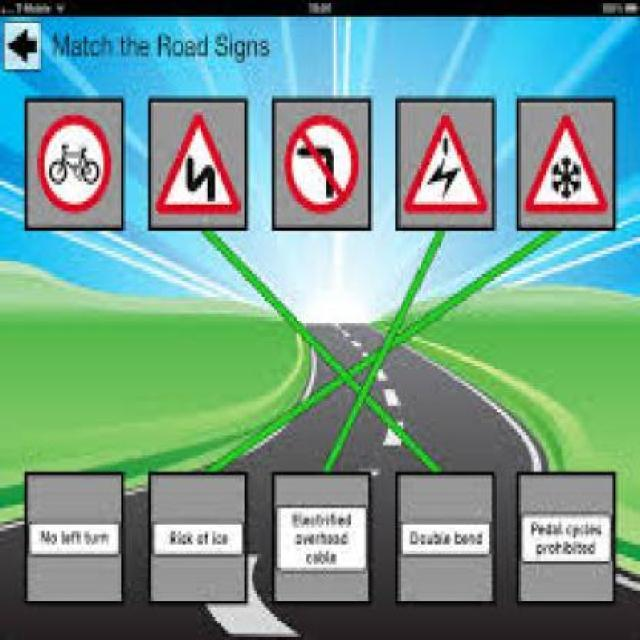warn_double_curve: (156, 109, 250, 228)
